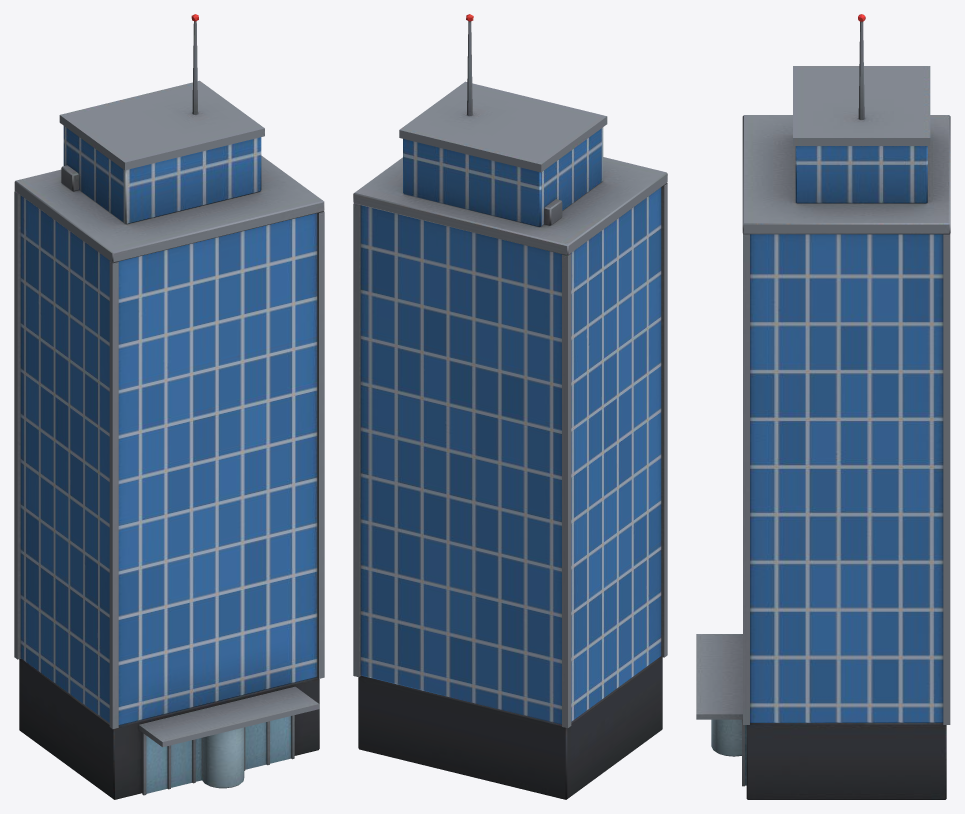
Rendered from oficina_azul.glb.
The picture shows the model from 3 angles, left to right: view 1: azimuth 30°, elevation 25°; view 2: azimuth 150°, elevation 25°; view 3: azimuth 270°, elevation 25°; orthographic projection. The views are drawn at different scales.
Parts seen in each view (by area): view 1: oficina_azul; view 2: oficina_azul; view 3: oficina_azul.
Boxes of the visible parts, x1,y1,x2,y2 form: oficina_azul: [14, 14, 324, 799]; oficina_azul: [353, 14, 667, 799]; oficina_azul: [696, 14, 950, 799].
Size of the model in its own units: 5.15 by 16.54 by 5.07.
Materials: 1 (1 with a texture image).
